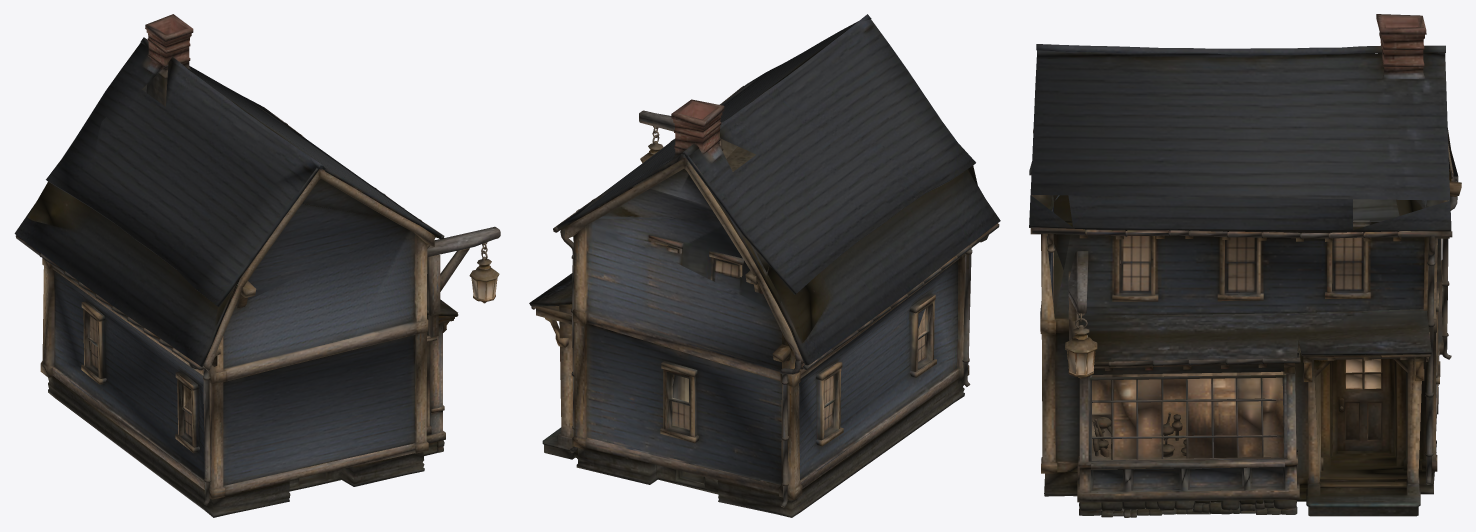
File: chandlery-tripo-p2.glb
3 renders of one model, left to right at view 1: azimuth 30°, elevation 25°; view 2: azimuth 150°, elevation 25°; view 3: azimuth 270°, elevation 25°, orthographic. The views are drawn at different scales.
Visible parts, largest first — view 1: tripo_node_60f3b0b7-3288-4559-8cd0-f9c9d9aec5f5; view 2: tripo_node_60f3b0b7-3288-4559-8cd0-f9c9d9aec5f5; view 3: tripo_node_60f3b0b7-3288-4559-8cd0-f9c9d9aec5f5.
Part boxes in pixels (x1=…): tripo_node_60f3b0b7-3288-4559-8cd0-f9c9d9aec5f5: x1=14, y1=14, x2=500, y2=517; tripo_node_60f3b0b7-3288-4559-8cd0-f9c9d9aec5f5: x1=529, y1=14, x2=1000, y2=517; tripo_node_60f3b0b7-3288-4559-8cd0-f9c9d9aec5f5: x1=1029, y1=14, x2=1461, y2=517.
Bounding box in the file's own units: 3.77 × 4 × 3.76.
Materials: 1 (1 with a texture image).
